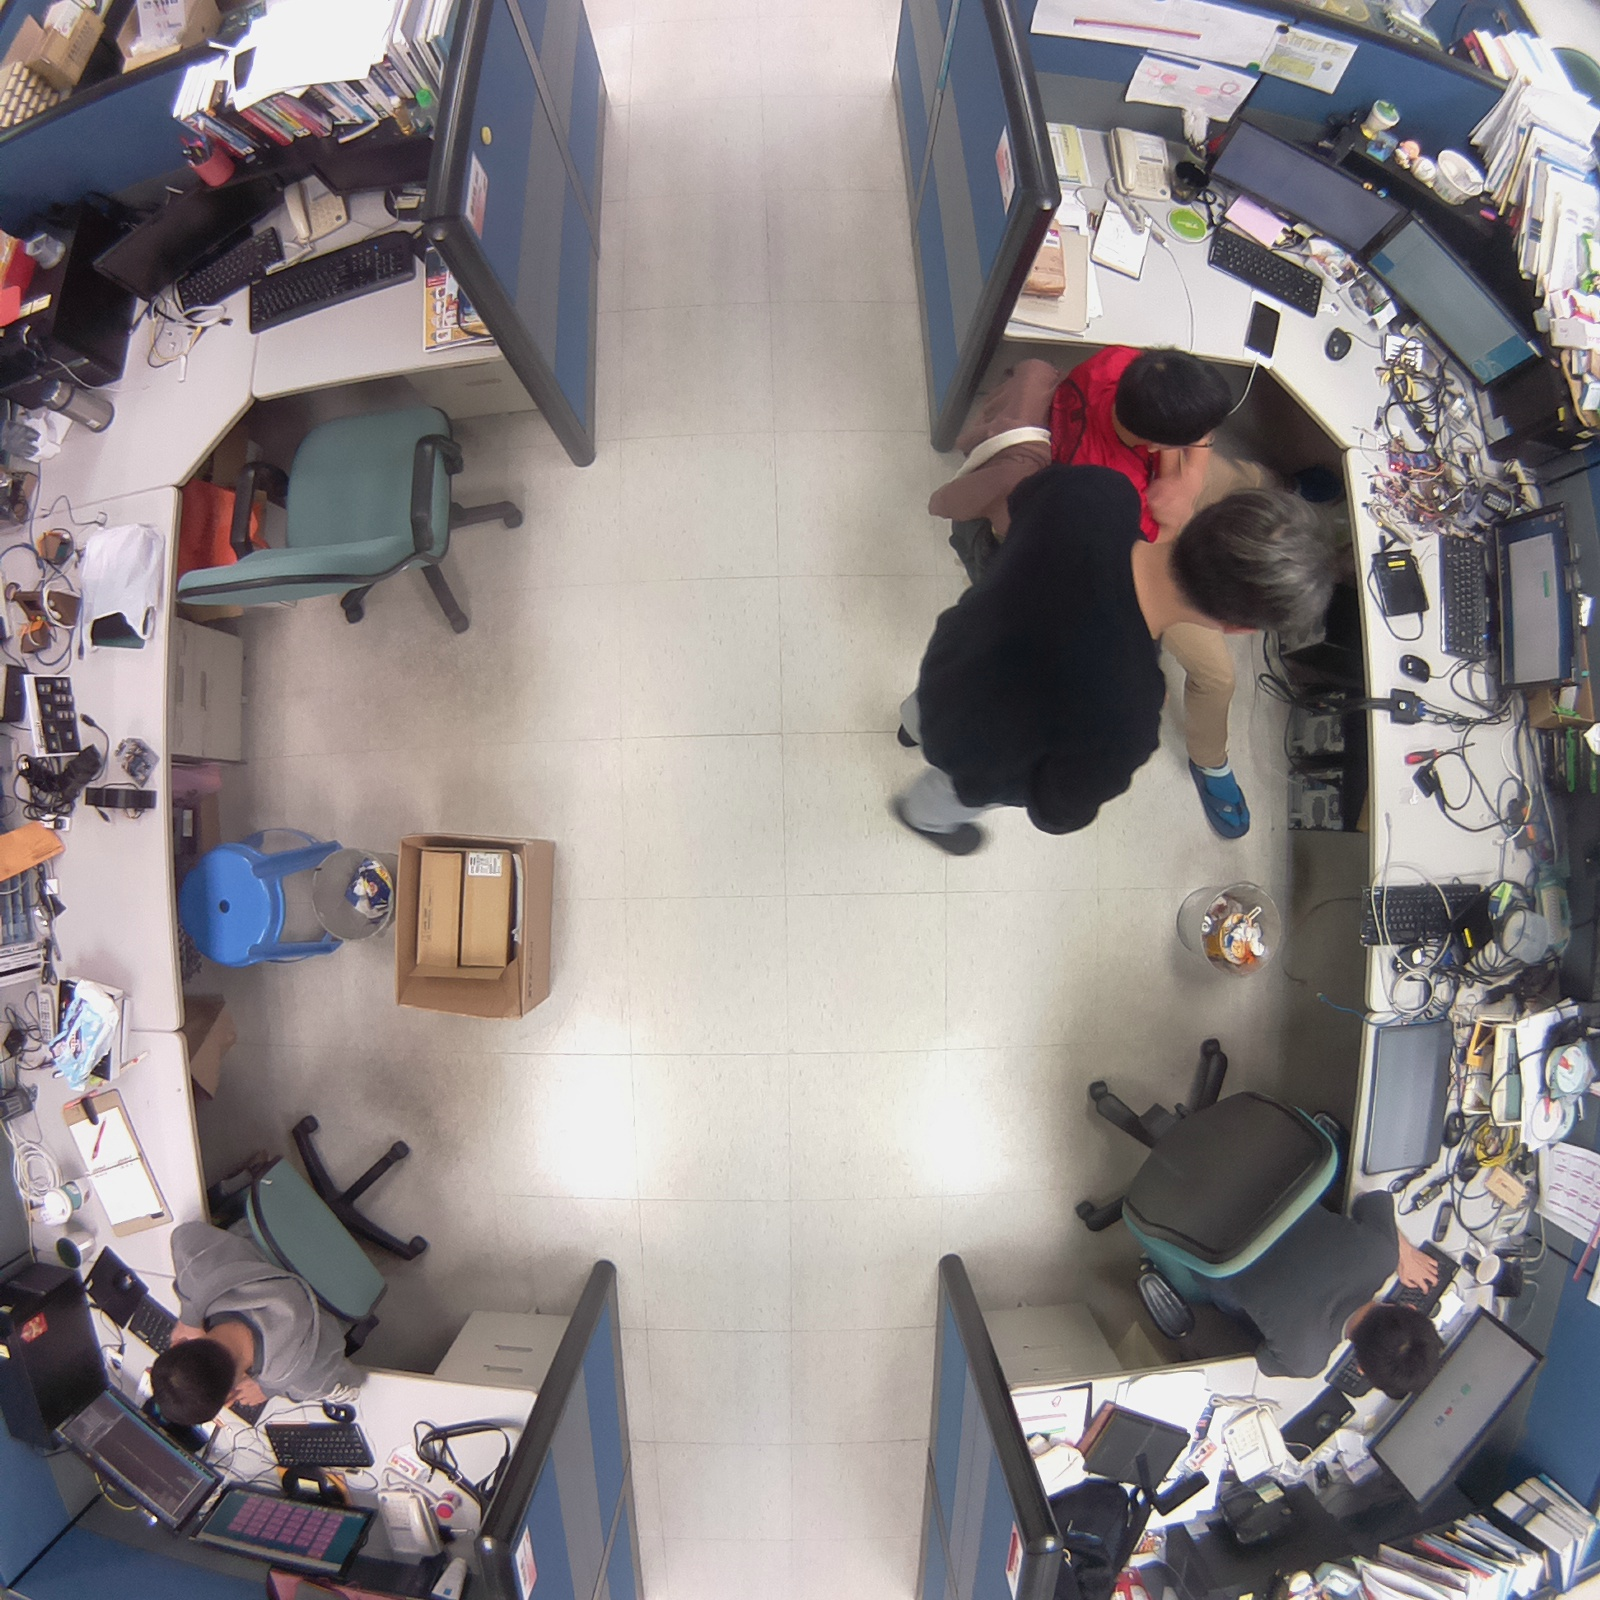chair: (155, 363, 560, 668)
head: (1162, 480, 1343, 645), (1111, 341, 1237, 455), (1346, 1296, 1454, 1406), (146, 1327, 243, 1433)
sitting: (1050, 1019, 1459, 1412), (136, 1083, 453, 1434), (937, 327, 1261, 538)
standing: (862, 458, 1362, 860)
